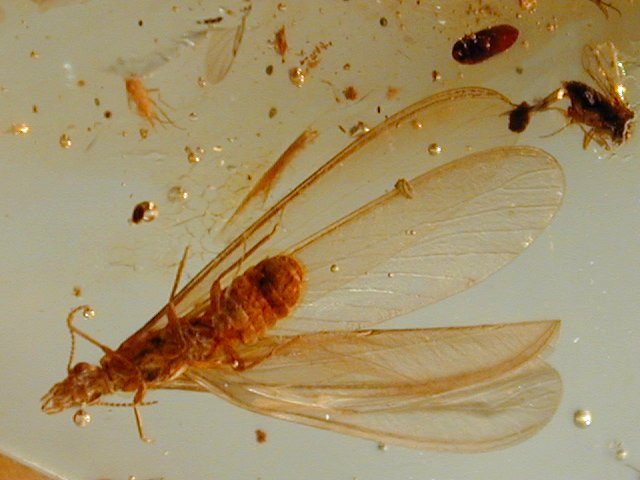flying termite: (30, 83, 584, 470)
